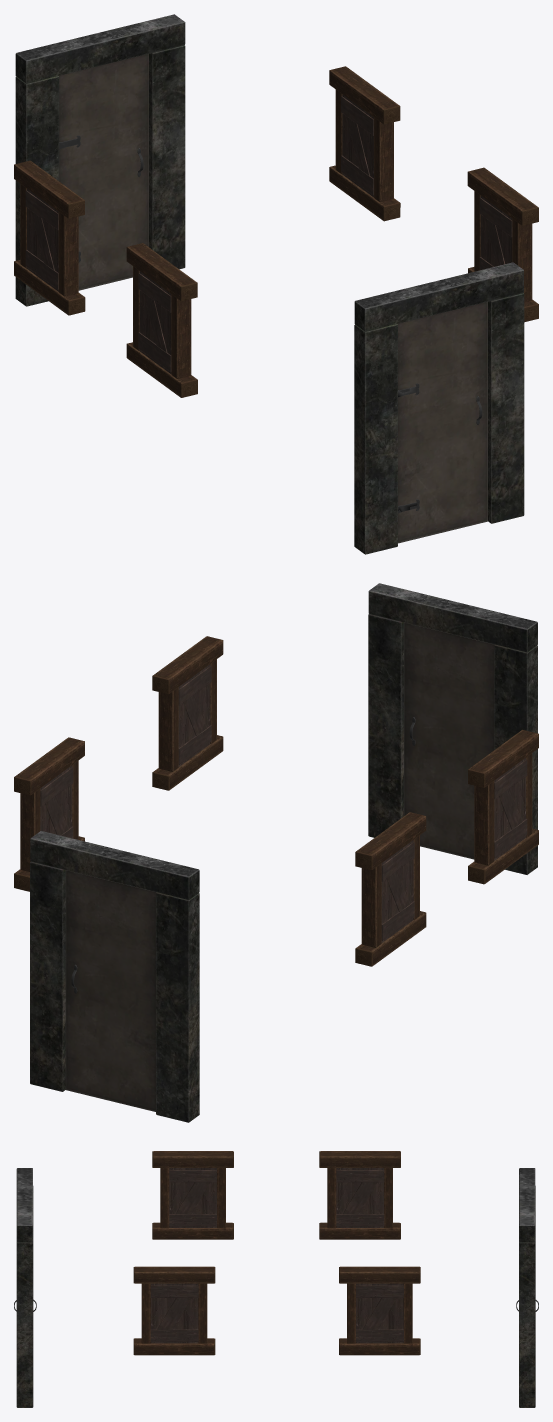
Rendered from BasicBuilding5.glb.
3 renders of one model, top to bottom at view 1: azimuth 30°, elevation 25°; view 2: azimuth 150°, elevation 25°; view 3: azimuth 270°, elevation 25°, orthographic. The views are drawn at different scales.
Parts seen in each view (by area): view 1: Door 1 Square Frame 2, Door1Square2, WindowFrame1, WindowCoverInside, HingeA_Wall; view 2: Door 1 Square Frame 2, Door1Square2, WindowFrame1, WindowCoverInside; view 3: WindowFrame1, WindowCoverInside, Door 1 Square Frame 2.
Boxes of the visible parts, x1,y1,x2,y2 form: Door 1 Square Frame 2: (15, 14, 524, 554); Door1Square2: (59, 54, 487, 543); WindowFrame1: (14, 66, 538, 397); WindowCoverInside: (25, 94, 512, 373); HingeA_Wall: (59, 135, 482, 513); Door 1 Square Frame 2: (30, 583, 537, 1122); Door1Square2: (65, 622, 494, 1111); WindowFrame1: (14, 636, 538, 966); WindowCoverInside: (40, 664, 527, 942); WindowFrame1: (133, 1151, 420, 1355); WindowCoverInside: (150, 1168, 403, 1343); Door 1 Square Frame 2: (16, 1168, 535, 1407).
Size of the model in its own units: 4.1 by 2.79 by 7.26.
Materials: 5 (5 with a texture image).
